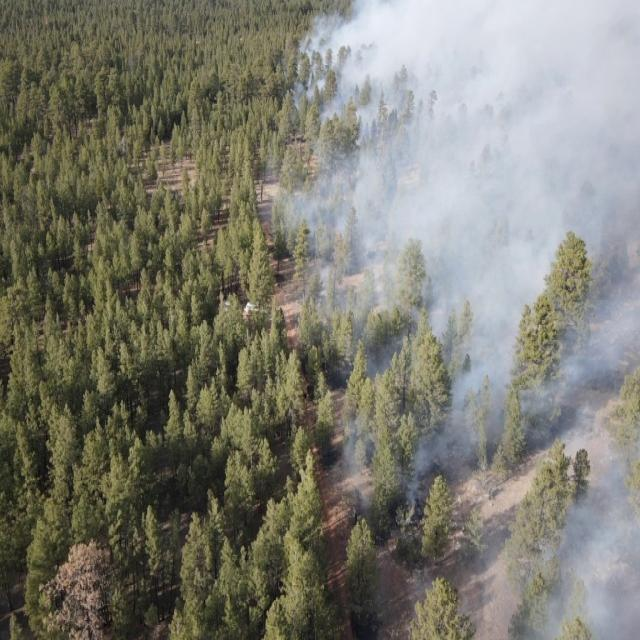smoke: (270, 0, 640, 458), (473, 459, 640, 640), (336, 458, 471, 520)
